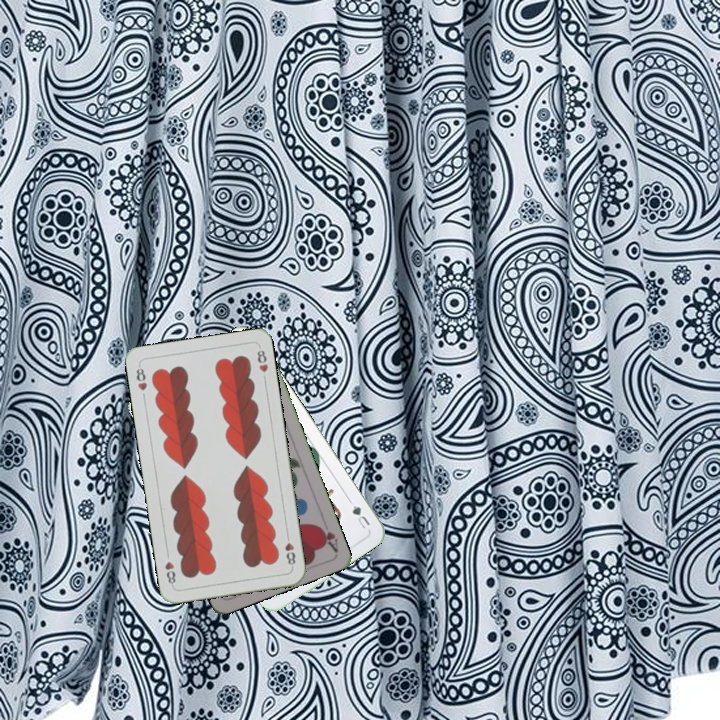GU: (345, 496, 373, 531)
H8: (281, 530, 298, 570), (132, 361, 150, 393)
HA: (314, 521, 341, 555)
